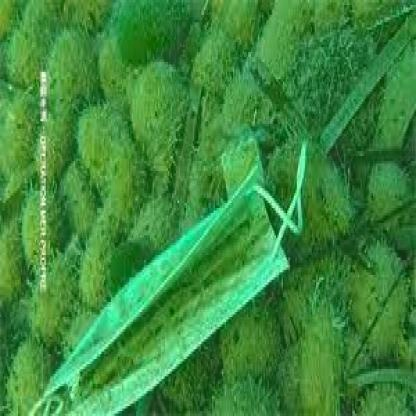Mask: (3, 104, 323, 414)
